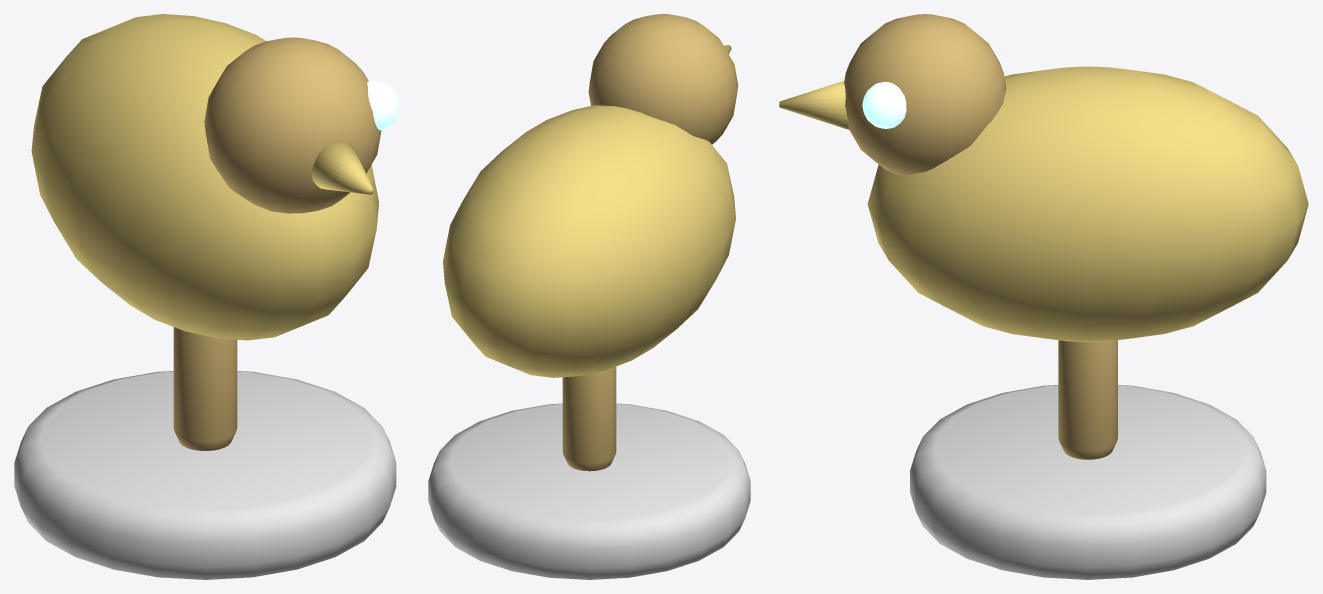
The model's file is SM_Art_AutomatonBird.fbx.
3 views of the same model, side by side, from view 1: azimuth 30°, elevation 25°; view 2: azimuth 150°, elevation 25°; view 3: azimuth 270°, elevation 25° (orthographic). The views are drawn at different scales.
Parts seen in each view (by area): view 1: Body, Base, Head, Post, Beak, Eye; view 2: Body, Base, Head, Post; view 3: Body, Base, Head, Post, Beak, Eye.
Part boxes in pixels (box(x1,y1,x2,y2)): Body: box(31, 14, 379, 340); Base: box(14, 371, 396, 579); Head: box(204, 37, 381, 213); Post: box(173, 327, 237, 450); Beak: box(311, 142, 373, 194); Eye: box(367, 80, 399, 130); Body: box(443, 105, 735, 377); Base: box(428, 403, 750, 579); Head: box(588, 14, 738, 144); Post: box(562, 366, 616, 471); Body: box(867, 66, 1308, 341); Base: box(910, 385, 1266, 579); Head: box(844, 14, 1006, 174); Post: box(1058, 340, 1117, 459); Beak: box(779, 81, 849, 129); Eye: box(862, 81, 906, 128).
Bounding box in the file's own units: 0.12 × 0.183 × 0.1783.
